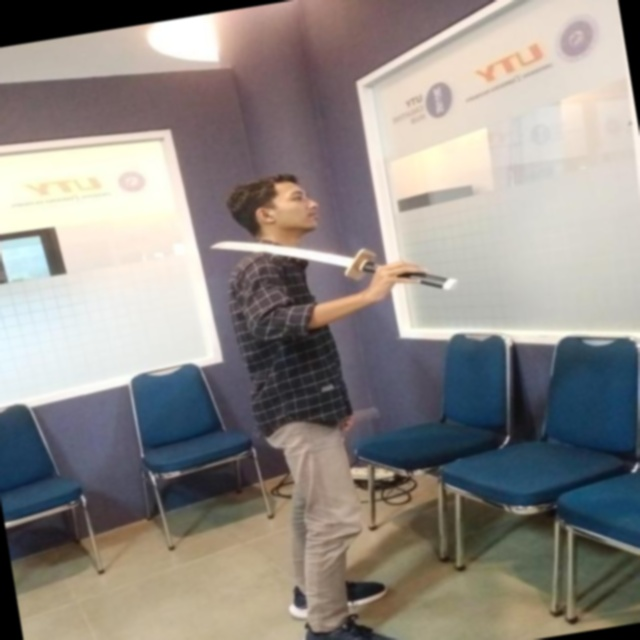Sharp-Object: (203, 201, 467, 326)
